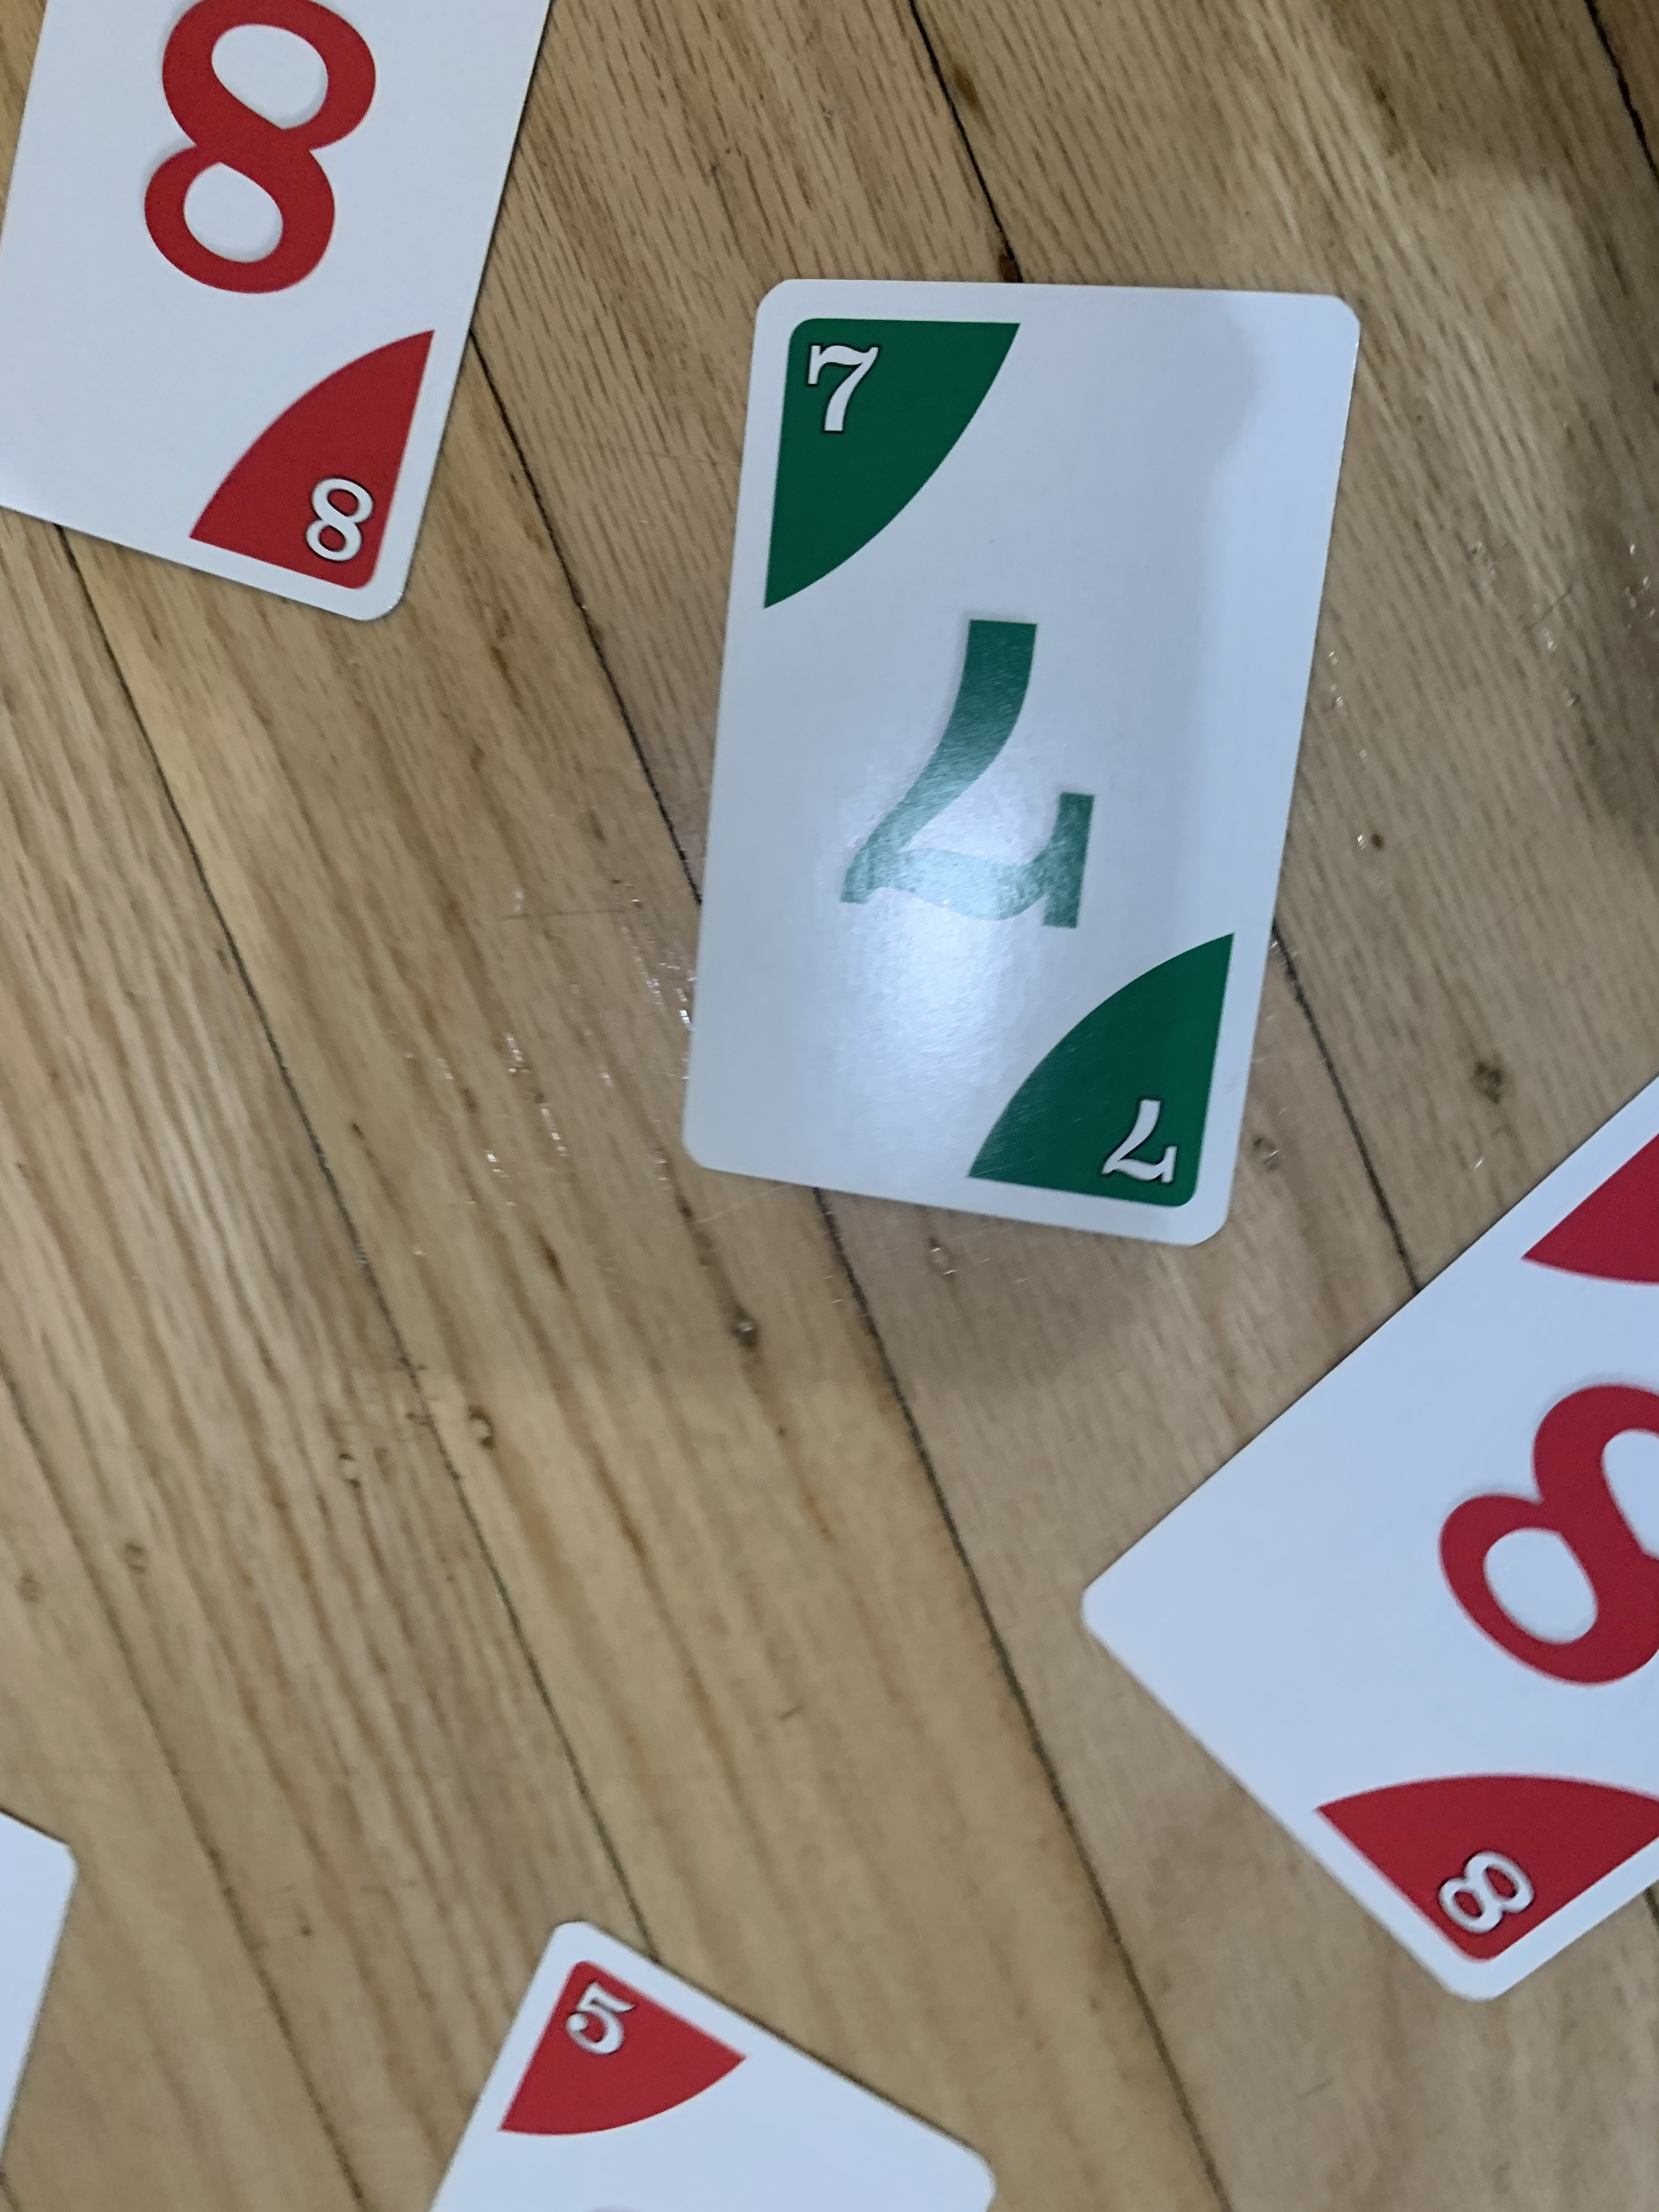seven: (690, 270, 1373, 1228)
